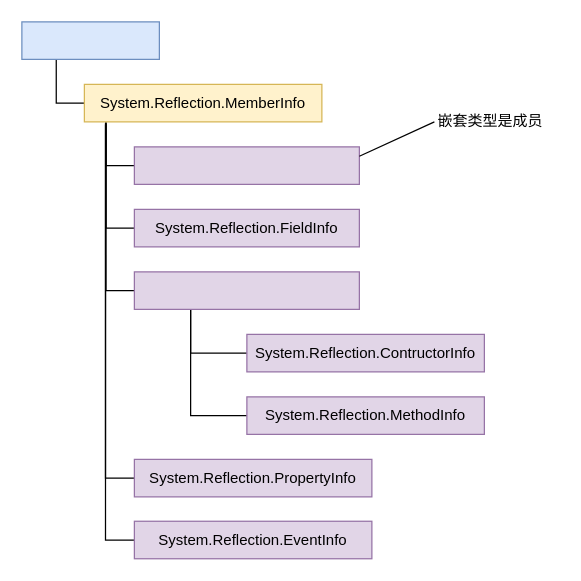
Some shapes in this 581 by 581 pixel diagram are drawn without their labels. The shapes that lost their labels are listed below. From the top down, each one's centre as x and y in pixels, then its label:
(90,40): System.Object
(246,165): System.TypeInfo
(246,290): System.Reflection.MethodBase
